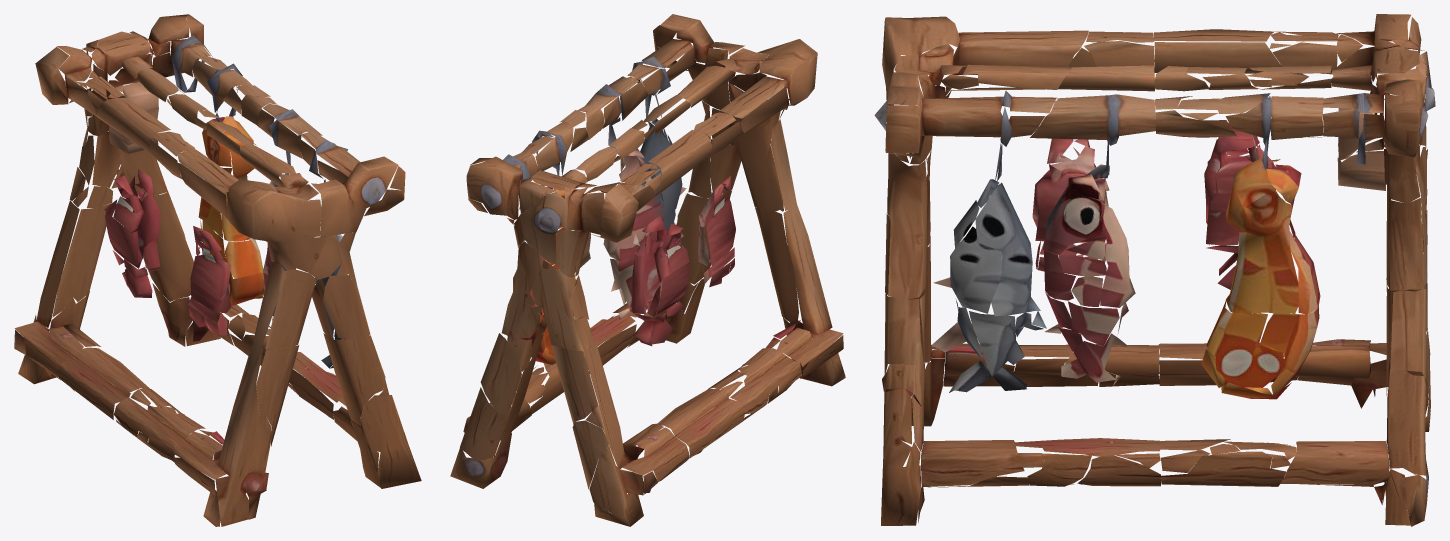
The model's file is varal.glb.
3 views of the same model, side by side, from view 1: azimuth 30°, elevation 25°; view 2: azimuth 150°, elevation 25°; view 3: azimuth 270°, elevation 25° (orthographic). The views are drawn at different scales.
Parts seen in each view (by area): view 1: tripo_node_33987991-e197-443b-8ec0-638935216b52; view 2: tripo_node_33987991-e197-443b-8ec0-638935216b52; view 3: tripo_node_33987991-e197-443b-8ec0-638935216b52.
Part boxes in pixels (x1=…): tripo_node_33987991-e197-443b-8ec0-638935216b52: x1=14, y1=14, x2=421, y2=526; tripo_node_33987991-e197-443b-8ec0-638935216b52: x1=450, y1=14, x2=845, y2=526; tripo_node_33987991-e197-443b-8ec0-638935216b52: x1=874, y1=14, x2=1435, y2=526.
Size of the model in its own units: 0.5302 by 0.8294 by 1.
1 material, 1 textured.
